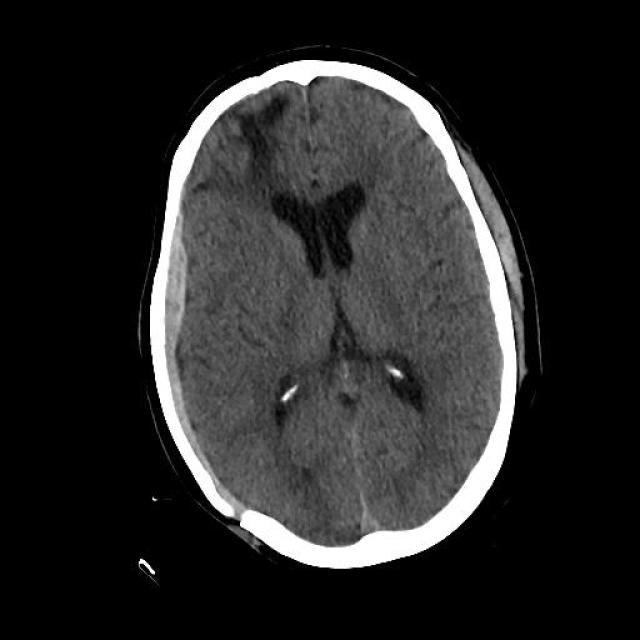Subdural: (110, 197, 261, 522)
